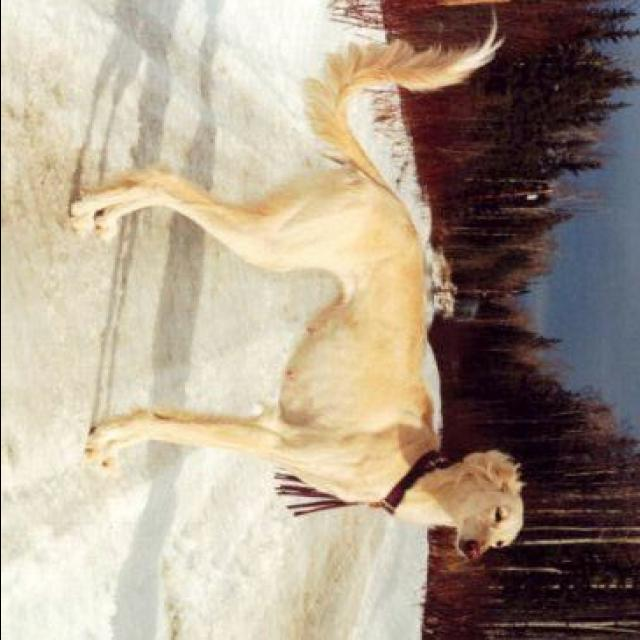saluki: (60, 8, 524, 570)
